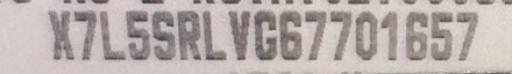letter: (44, 8, 78, 60), (122, 9, 152, 59), (250, 9, 278, 61), (149, 10, 179, 58), (200, 9, 228, 59), (328, 10, 356, 60), (176, 9, 202, 61), (277, 9, 303, 61), (302, 9, 328, 61), (455, 9, 481, 61), (98, 10, 126, 58), (354, 10, 380, 60), (227, 10, 253, 58), (430, 10, 456, 58), (404, 11, 430, 59), (74, 9, 98, 59), (378, 10, 402, 60)
